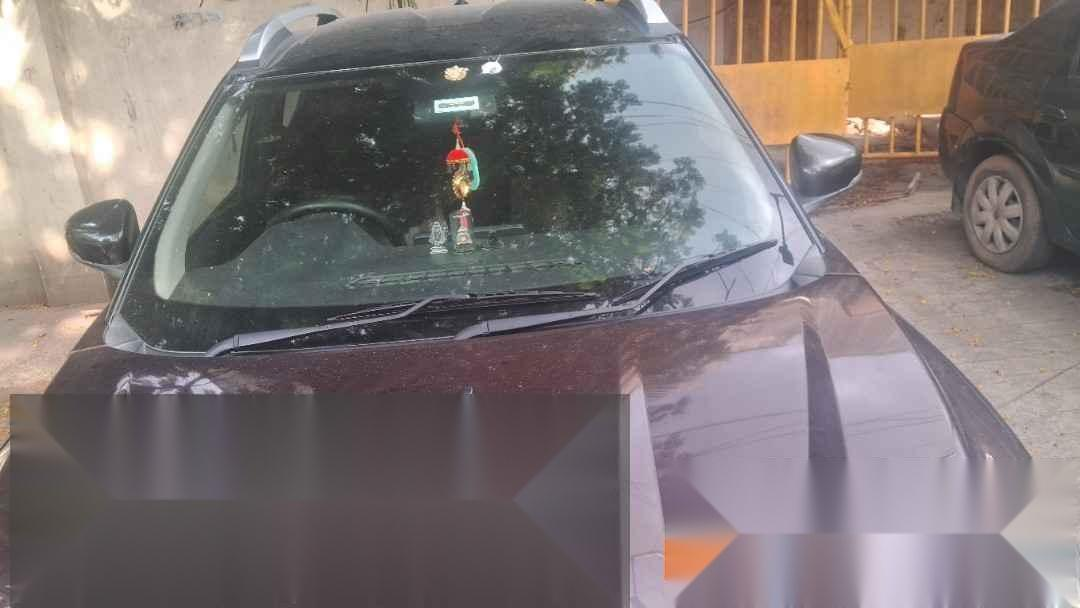FastTag: (422, 85, 488, 122)
